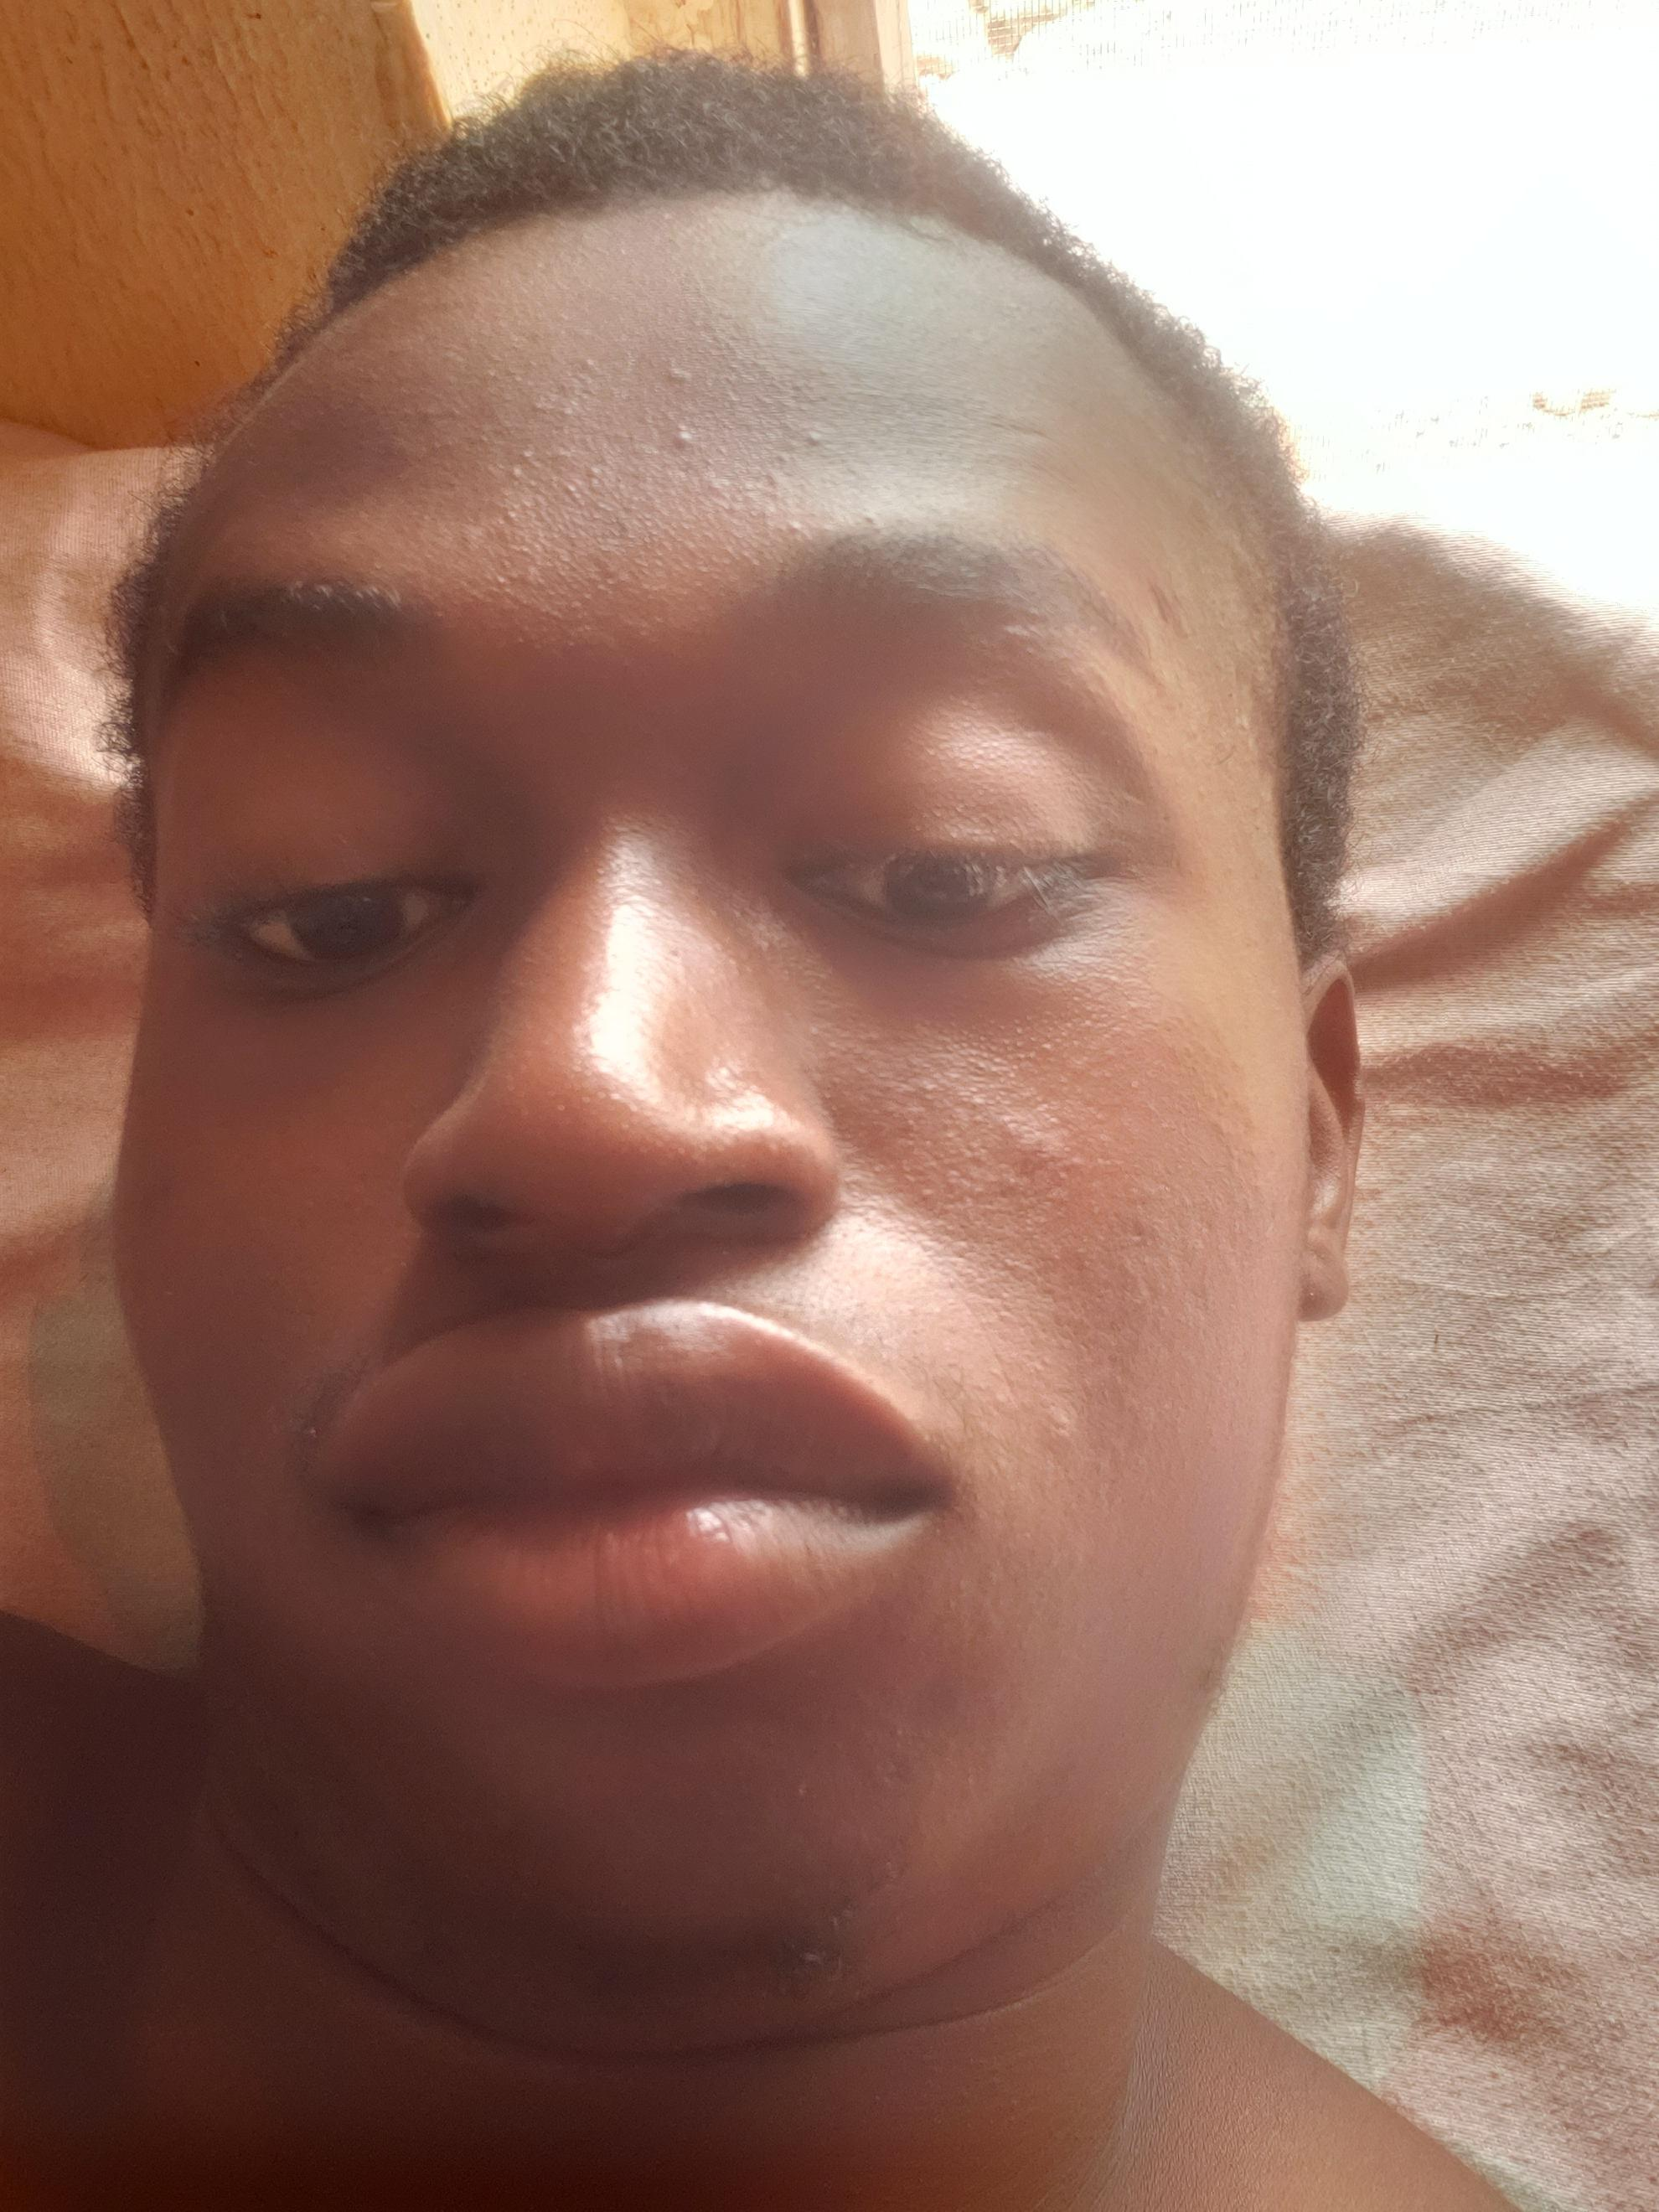Acne: (917, 1066, 993, 1113), (1018, 1125, 1066, 1179), (477, 559, 551, 589), (1047, 1399, 1077, 1453), (655, 357, 697, 390), (577, 453, 605, 500), (507, 439, 540, 474), (784, 1768, 816, 1804), (667, 420, 701, 453), (777, 512, 803, 542), (800, 428, 826, 455), (579, 352, 599, 376), (498, 510, 523, 526)
Wrinkles: (920, 1251, 1026, 1418)
